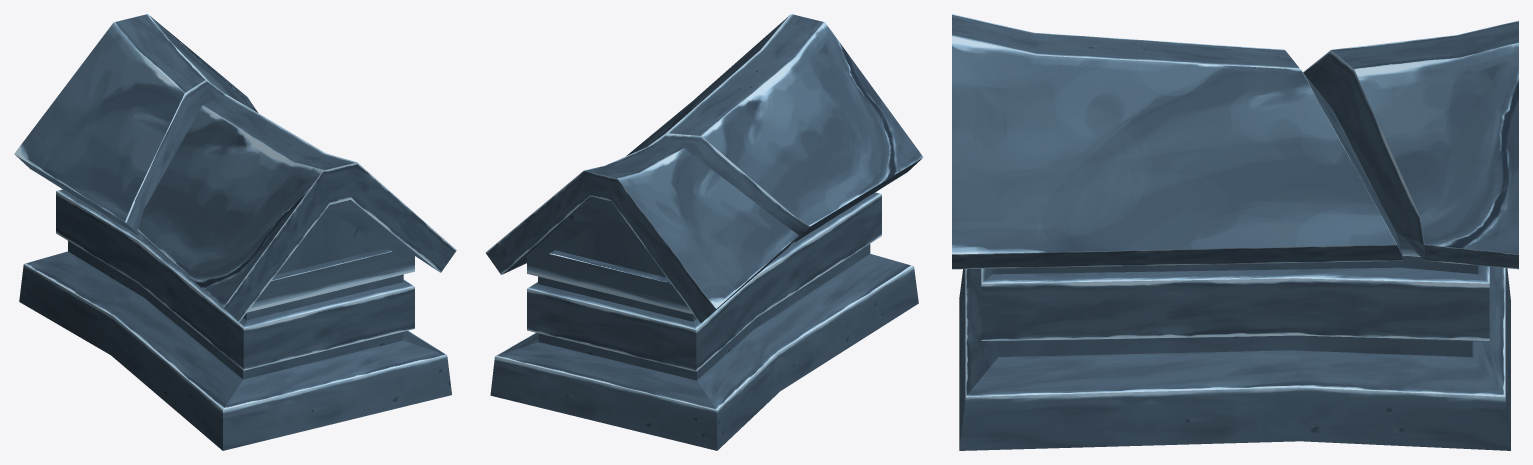
File: SM_PROP_stonegrave_v03_02.fbx
3 views of the same model, side by side, from view 1: azimuth 30°, elevation 25°; view 2: azimuth 150°, elevation 25°; view 3: azimuth 270°, elevation 25° (orthographic). The views are drawn at different scales.
Parts seen in each view (by area): view 1: SM_PROP_stonegrave_v03_02; view 2: SM_PROP_stonegrave_v03_02; view 3: SM_PROP_stonegrave_v03_02.
Part boxes in pixels (box(x1,y1,x2,y2)): SM_PROP_stonegrave_v03_02: box(14, 14, 456, 450); SM_PROP_stonegrave_v03_02: box(485, 14, 923, 450); SM_PROP_stonegrave_v03_02: box(952, 14, 1518, 450).
Bounding box in the file's own units: 265 × 281 × 412.
